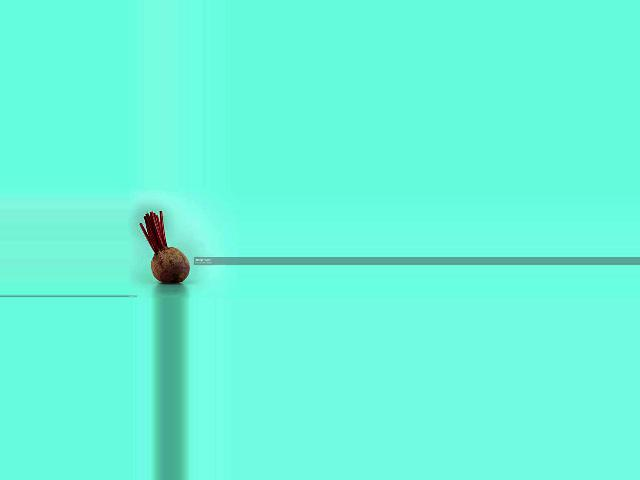beet: (140, 211, 190, 283)
